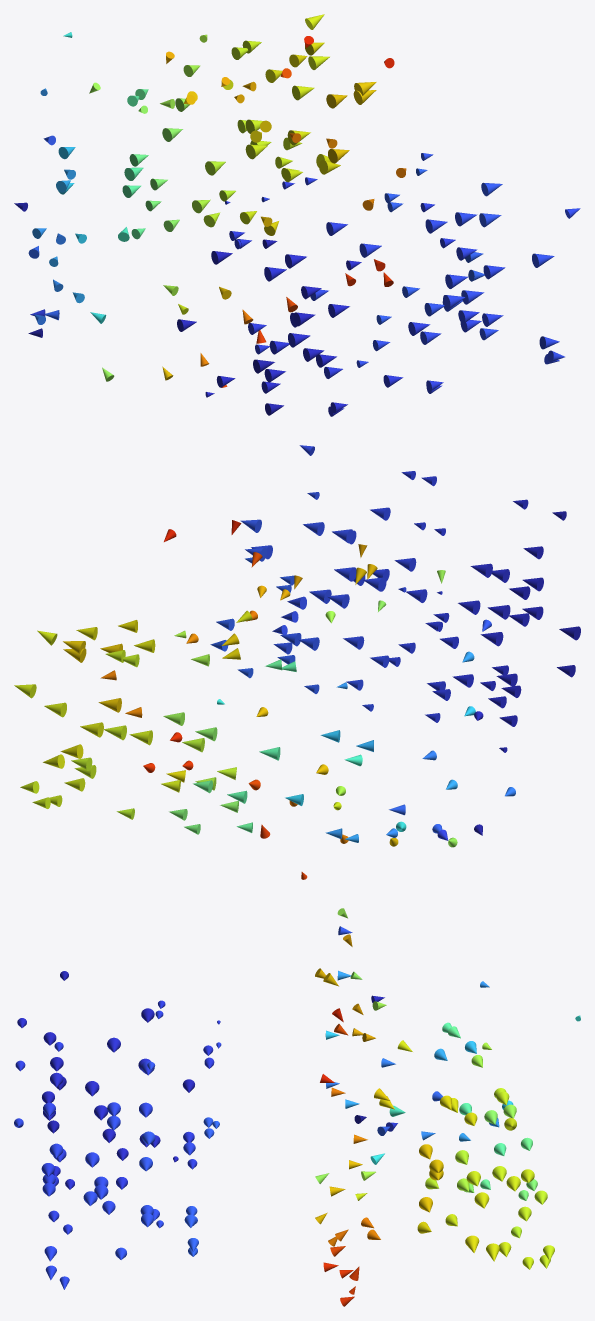
File: LineasCorrienteN2-H2O_mh2-2.70_V-0.7.glb
The picture shows the model from 3 angles, top to bottom: view 1: azimuth 30°, elevation 25°; view 2: azimuth 150°, elevation 25°; view 3: azimuth 270°, elevation 25°; orthographic projection. The views are drawn at different scales.
Bounding box in the file's own units: 0.000969 × 0.000813 × 0.00126.
Materials: 2 (2 with a texture image).
